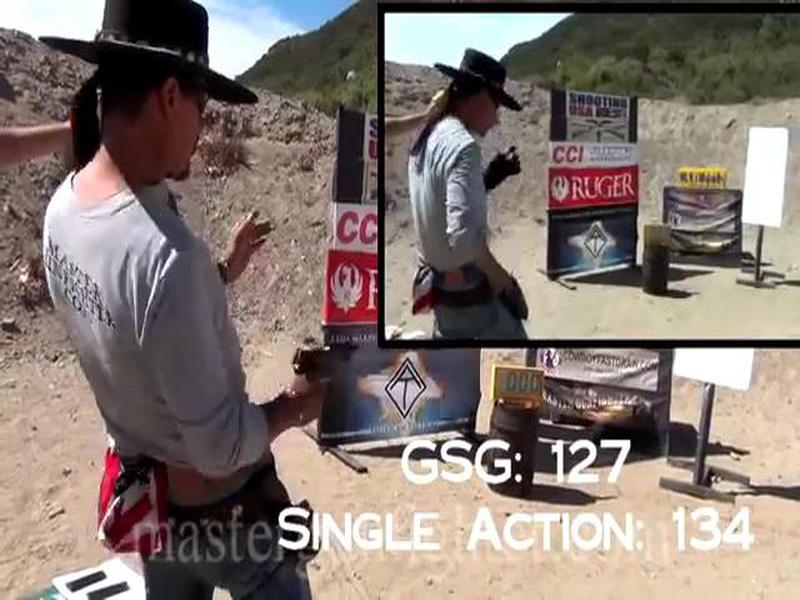Pistola: (284, 331, 363, 412)
